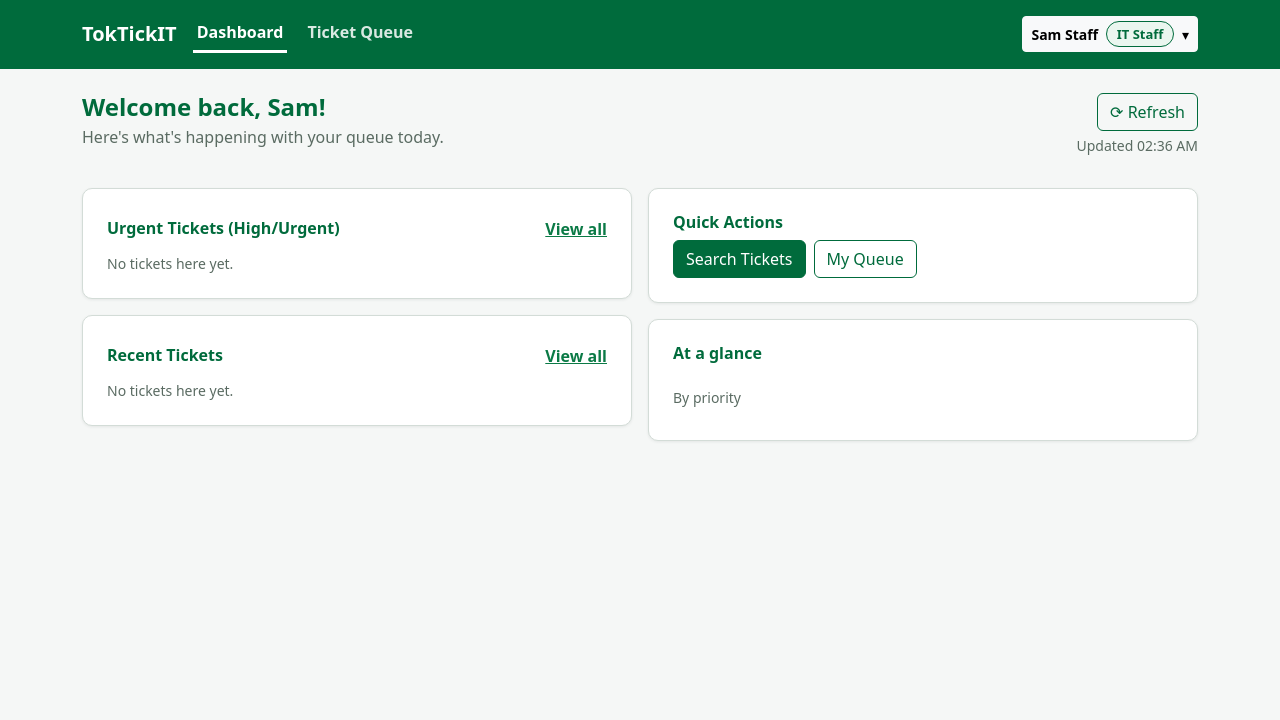
UI-11 — logout (AC-13) › still leaves the application when the server cannot be reached
Click the button named "profile menu": (1110, 34) [1022,16,1198,52]
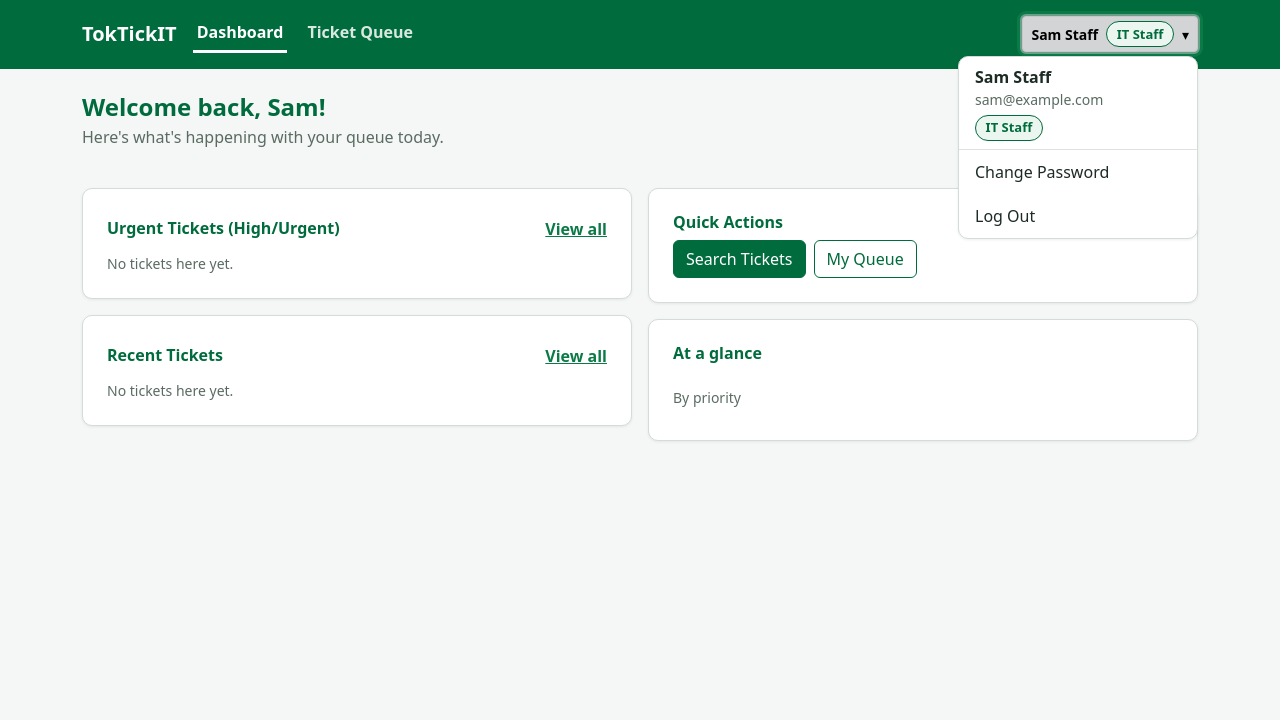
Click the button "Log Out": (1078, 216) [959,194,1197,238]
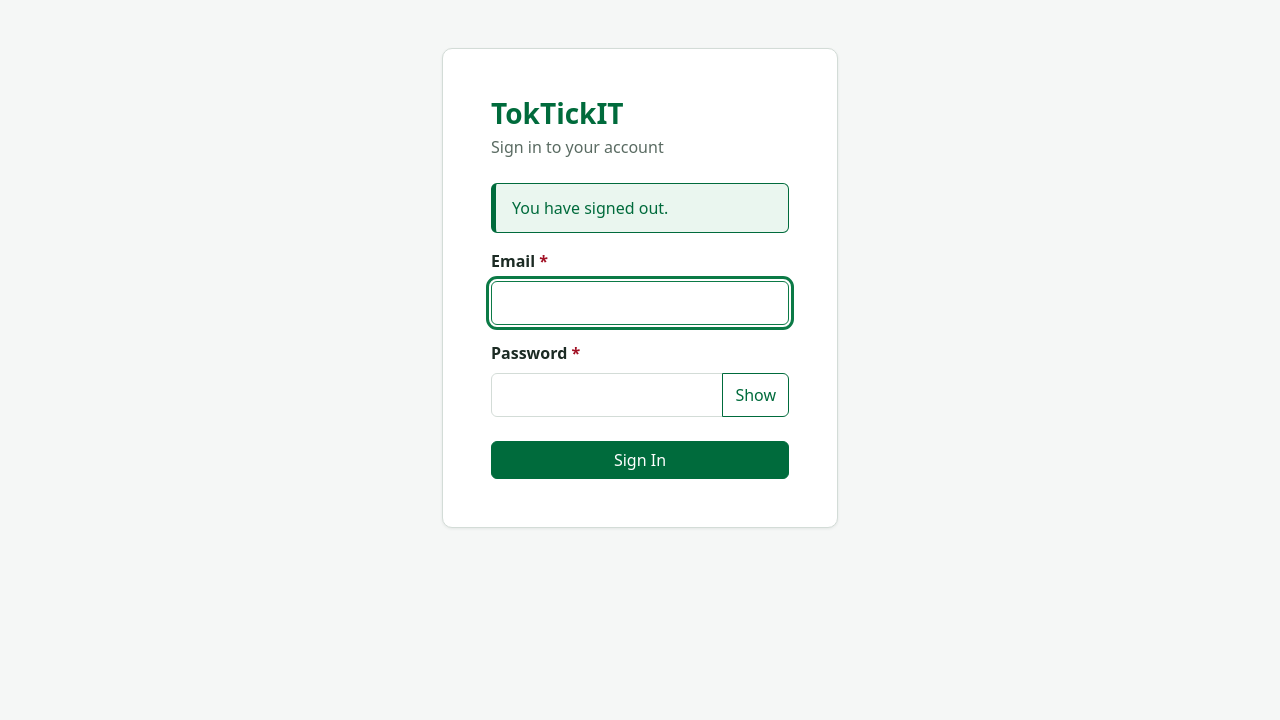
Expected: the button "Sign In" is shown, [491,441,789,479]
Expected: the text with test id "signed-in-user" is gone
